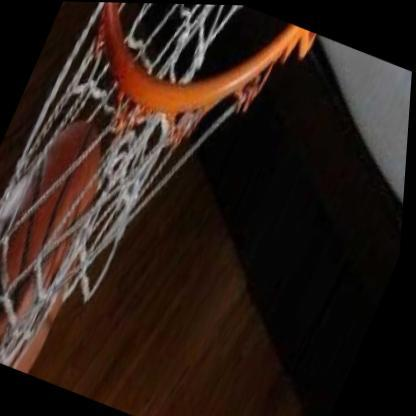basketball: (0, 95, 141, 377)
